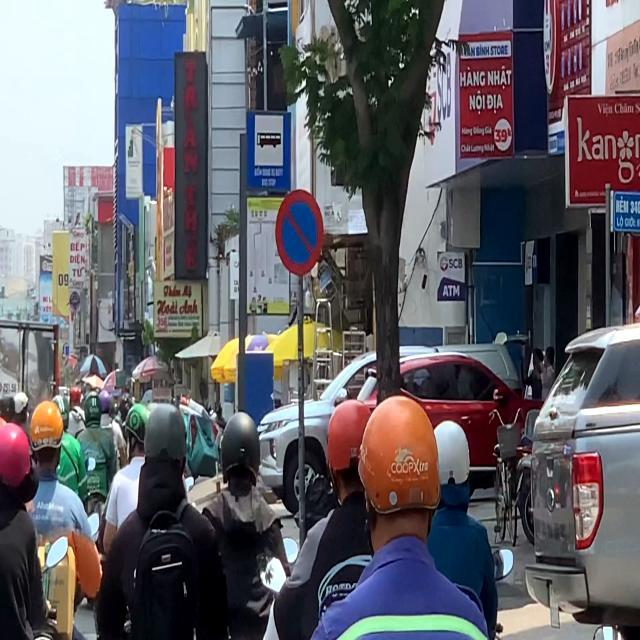P-131a: (276, 189, 326, 274)
